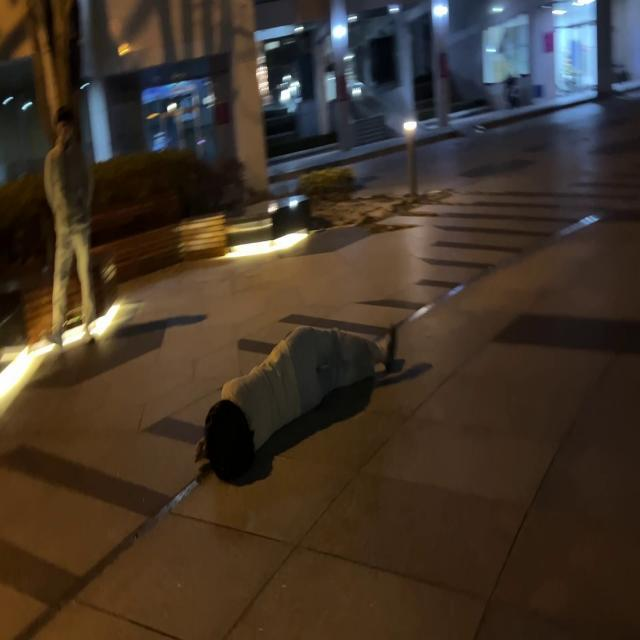Fall: (204, 327, 397, 480)
Stand: (43, 106, 95, 344)
